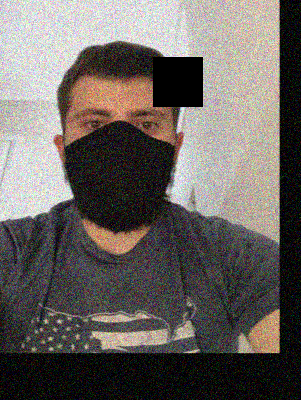with_mask: (64, 97, 176, 234)
